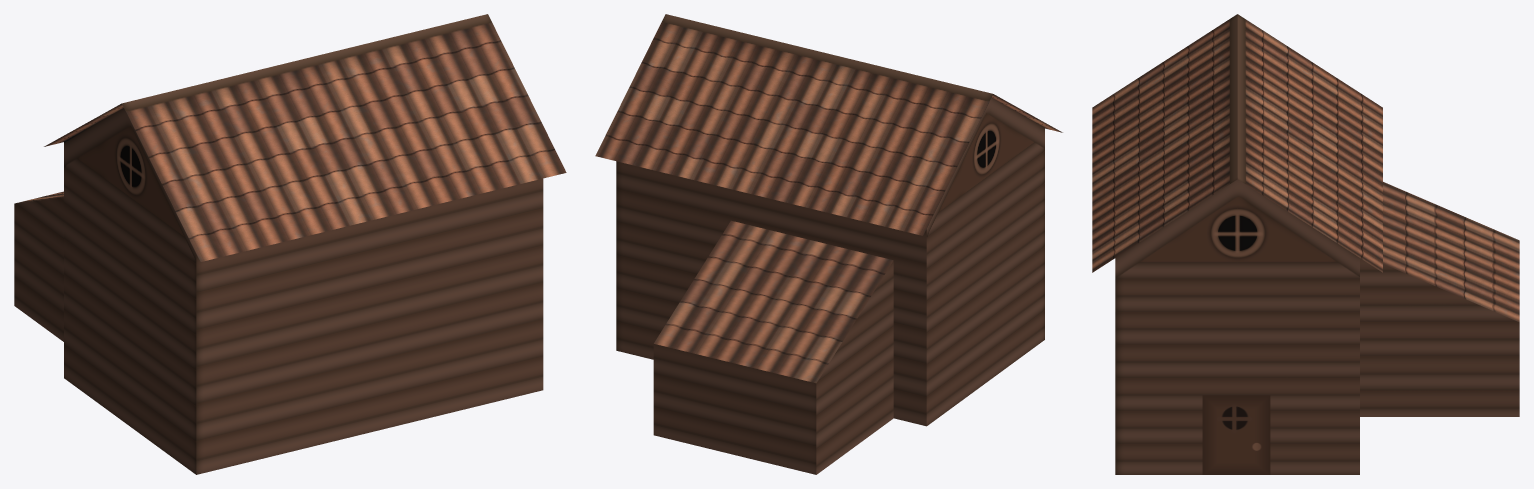
File: SM_House.fbx
The picture shows the model from 3 angles, left to right: view 1: azimuth 30°, elevation 25°; view 2: azimuth 150°, elevation 25°; view 3: azimuth 270°, elevation 25°; orthographic projection. The views are drawn at different scales.
Parts seen in each view (by area): view 1: Woodhouse; view 2: Woodhouse; view 3: Woodhouse.
Part boxes in pixels (x1,y1,x2,y2): Woodhouse: (14, 14, 566, 474); Woodhouse: (595, 14, 1062, 474); Woodhouse: (1092, 14, 1519, 474).
Size of the model in its own units: 16.88 by 14.32 by 18.45.
